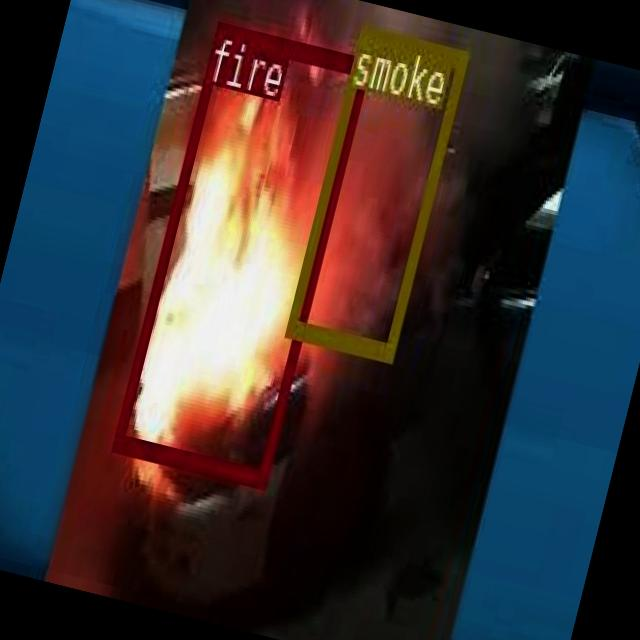fire: (112, 19, 369, 482)
smoke: (284, 24, 467, 356)
